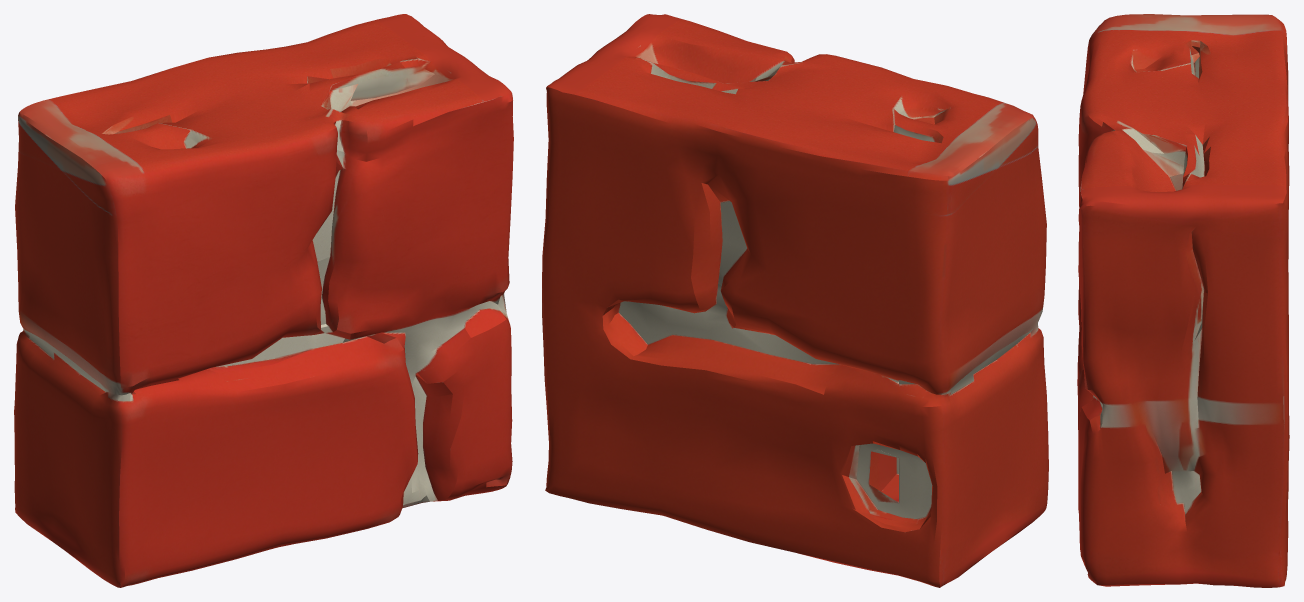
File: brick_std_redbrick_b.glb
3 views of the same model, side by side, from view 1: azimuth 30°, elevation 25°; view 2: azimuth 150°, elevation 25°; view 3: azimuth 270°, elevation 25° (orthographic). The views are drawn at different scales.
Visible parts, largest first — view 1: Mesh_0; view 2: Mesh_0; view 3: Mesh_0.
Boxes of the visible parts, x1,y1,x2,y2 form: Mesh_0: (14, 14, 513, 587); Mesh_0: (542, 14, 1048, 587); Mesh_0: (1077, 14, 1289, 587).
Size of the model in its own units: 1.9 by 1.84 by 0.904.
Materials: 1 (1 with a texture image).
